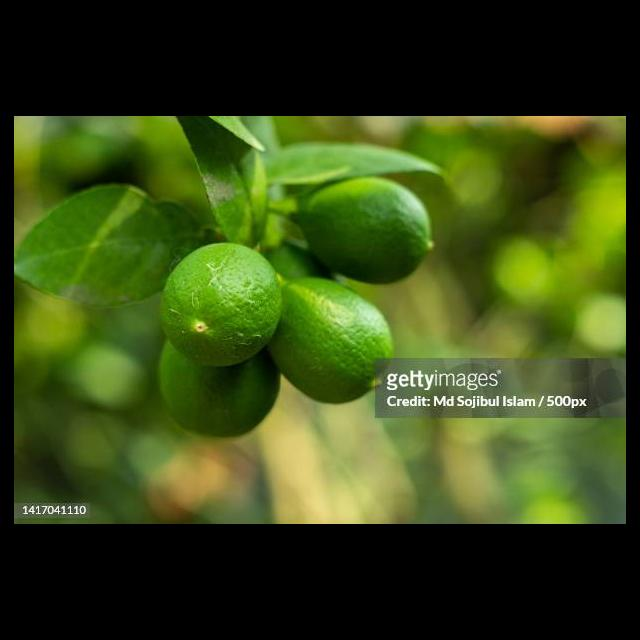lime: (291, 176, 435, 287), (269, 280, 391, 406), (163, 244, 278, 364), (160, 345, 279, 440)
